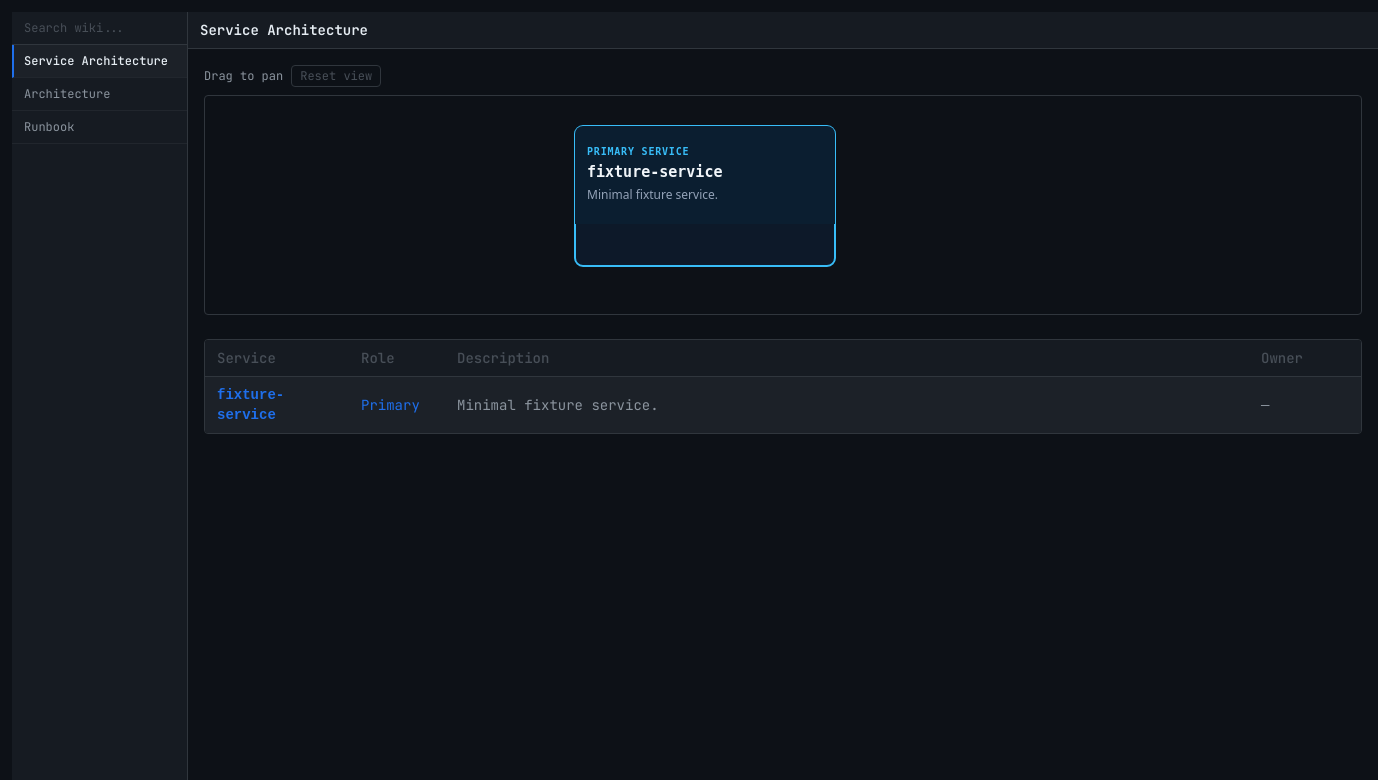
Test: WikiTab › search › shows "No pages match" when 0 pages match
The width and height of the screenshot is (1378, 780).
Type "zzz-no-match" into the field with placeholder "Search wiki...".
click(100, 28); type("zzz-no-match")  # box [12,12,187,44]
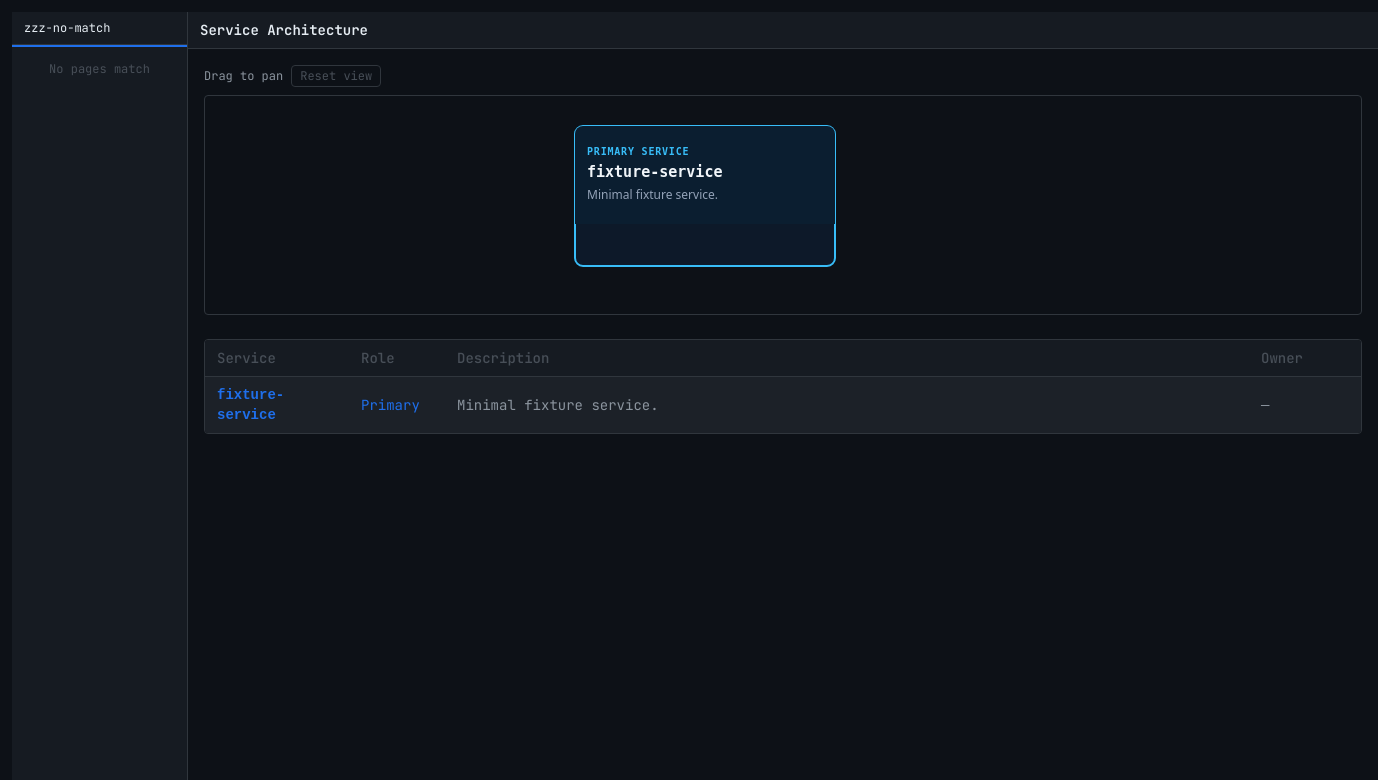
Now the text "No pages match" is shown, box [49,61,150,77]
